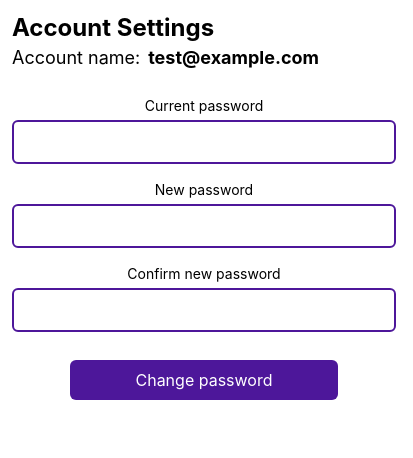
SettingsPage password change › does not submit mismatched passwords
In the password field labelled "Current password": [204, 142] box [12,120,396,164], type "oldpassword"
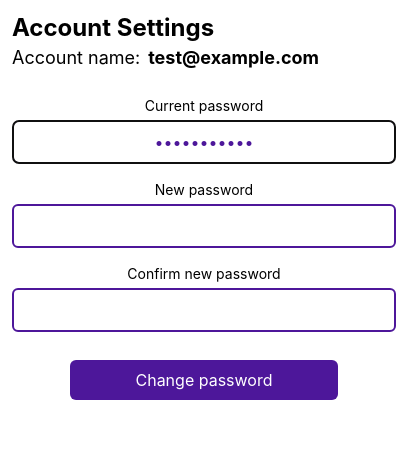
In the password field labelled "New password": [204, 226] box [12,204,396,248], type "newpassword"
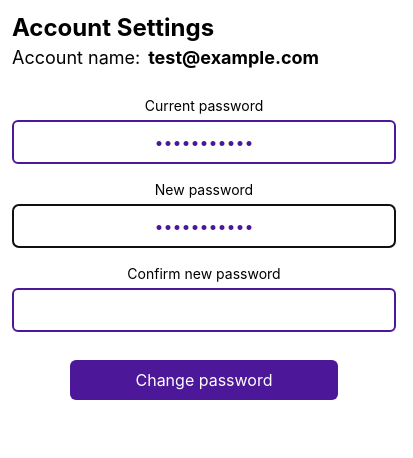
In the password field labelled "Confirm new password": [204, 310] box [12,288,396,332], type "differentpassword"
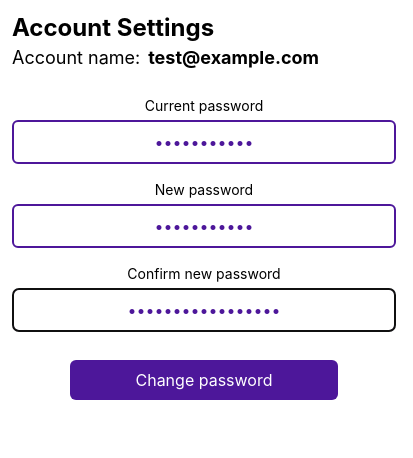
Click the button "Change password": [204, 380] box [70,360,338,400]
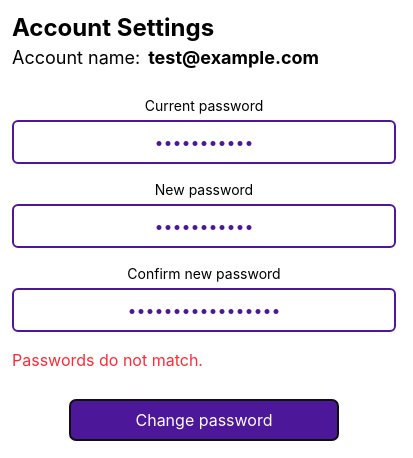
Expected: the message shows "Passwords do not match", [12,350,203,370]
